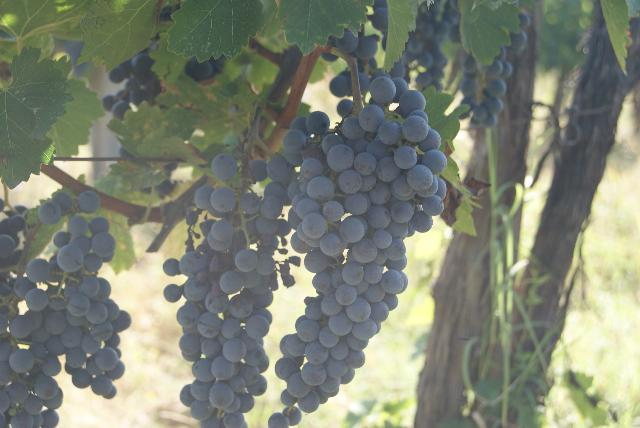grapes: (270, 74, 448, 428), (162, 132, 280, 428), (24, 215, 130, 396), (0, 208, 61, 428)
